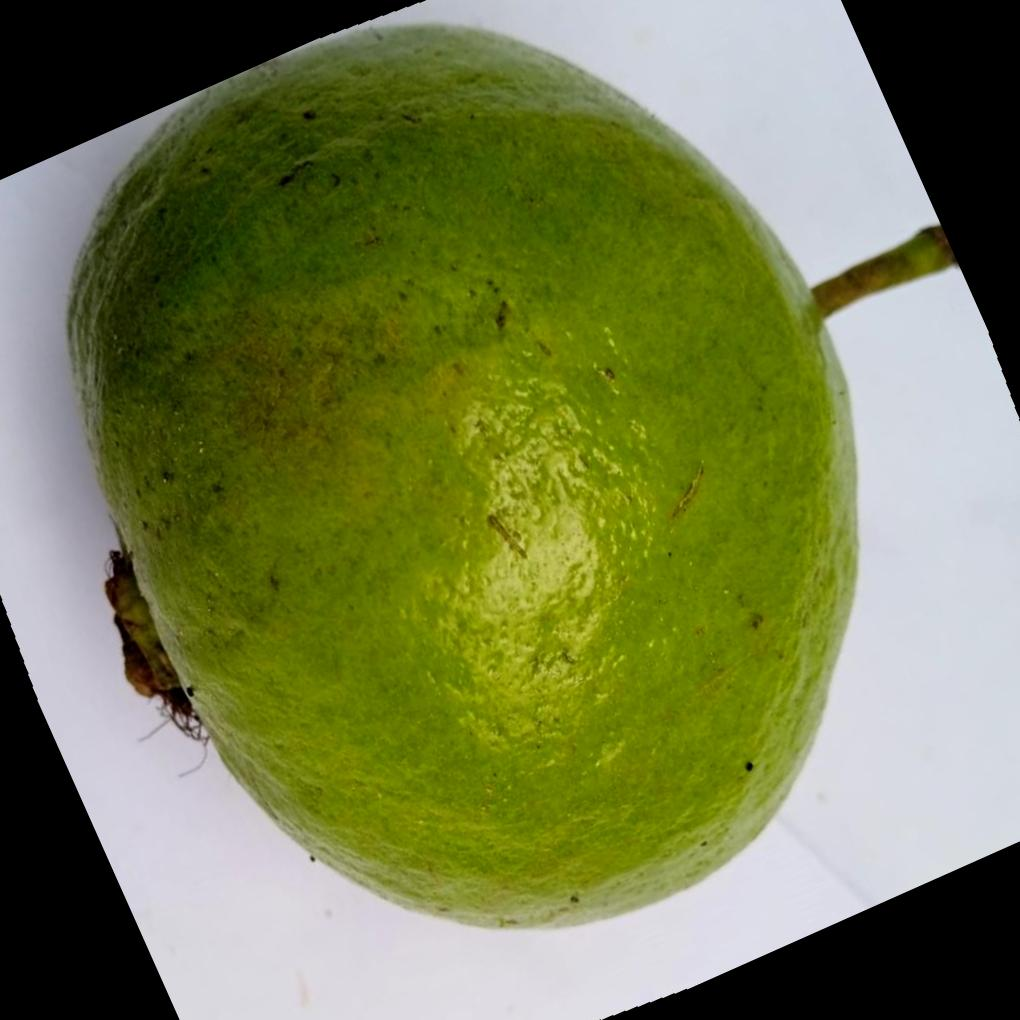FreshGuava: (63, 20, 954, 929)
